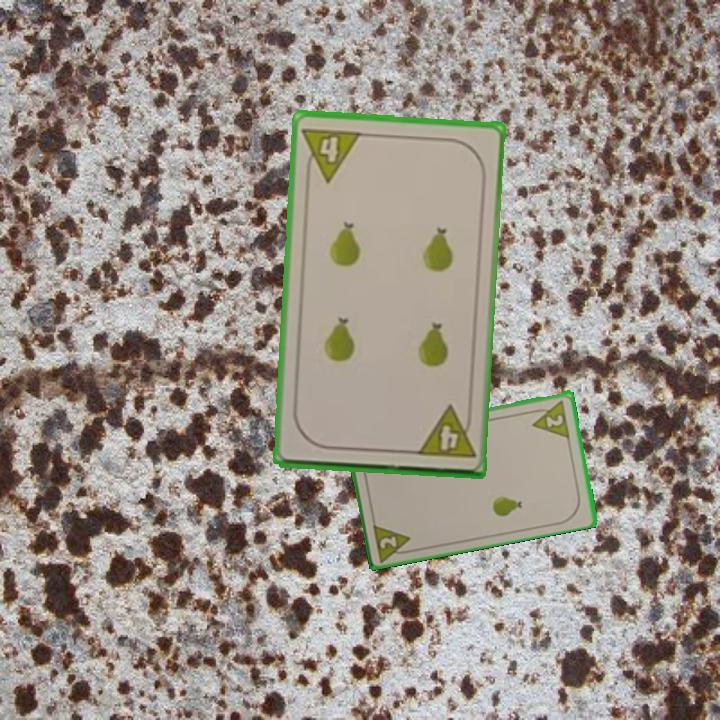2p: (369, 519, 417, 563), (527, 396, 573, 440)
4p: (299, 123, 364, 185), (413, 403, 478, 461)
